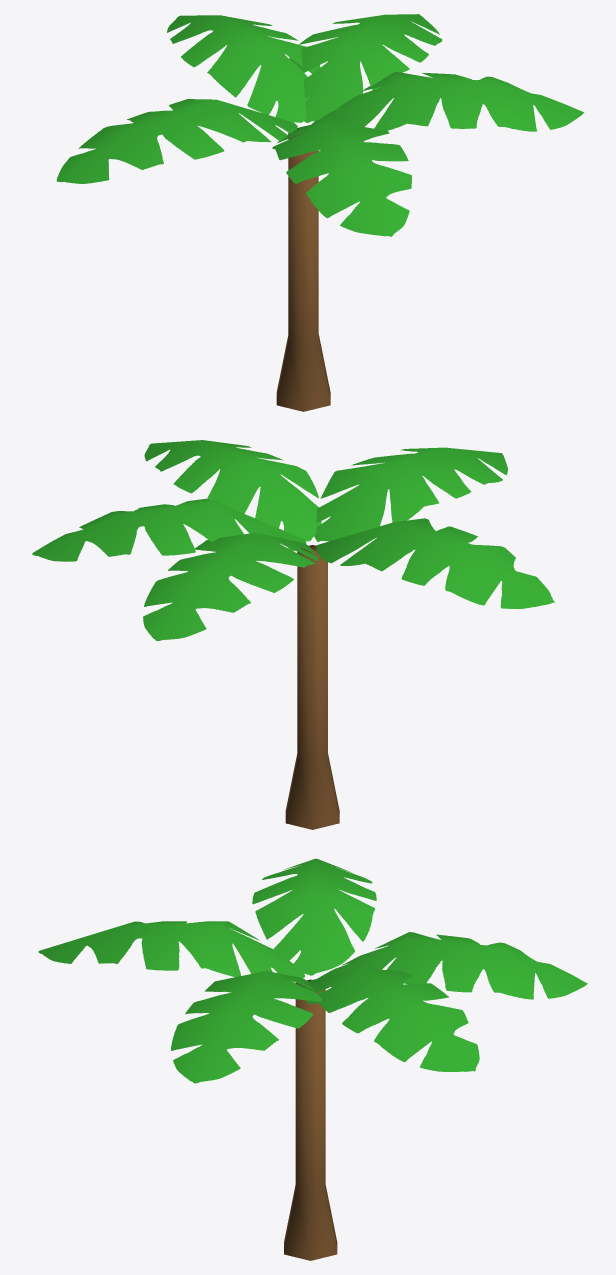
File: Palm_A.fbx
3 renders of one model, top to bottom at view 1: azimuth 30°, elevation 25°; view 2: azimuth 150°, elevation 25°; view 3: azimuth 270°, elevation 25°, orthographic.
Parts seen in each view (by area): view 1: Palm_A; view 2: Palm_A; view 3: Palm_A.
Boxes of the visible parts, box(x1,y1,x2,y2) form: Palm_A: box(56, 14, 584, 411); Palm_A: box(32, 440, 554, 829); Palm_A: box(38, 858, 587, 1260).
Size of the model in its own units: 403 by 240 by 408.
